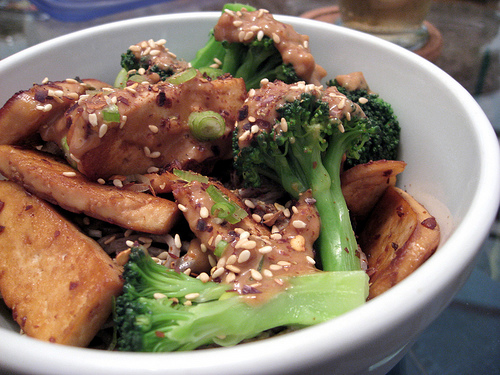broccoli: (229, 79, 381, 276), (110, 239, 369, 354), (192, 2, 299, 87), (115, 46, 177, 88)
